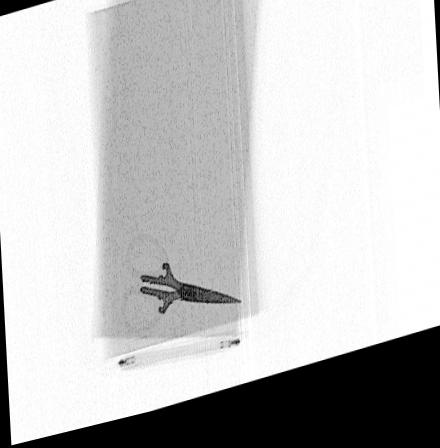Scissors: (119, 237, 246, 345)
